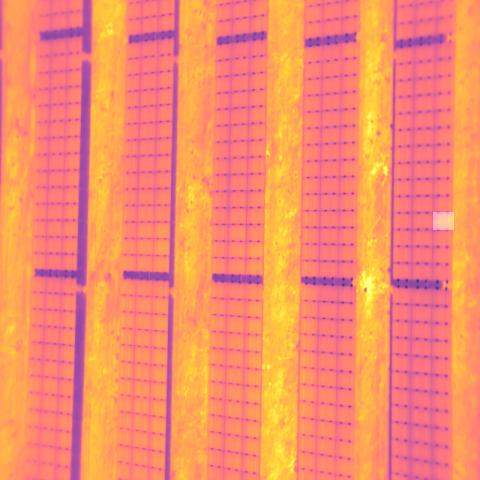fault: (433, 212, 454, 230)
